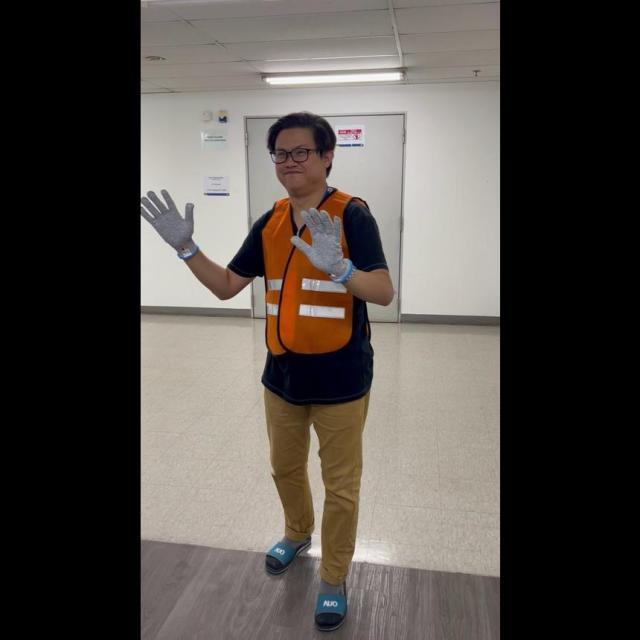gloved_hand: (286, 200, 352, 284), (141, 182, 199, 259)
